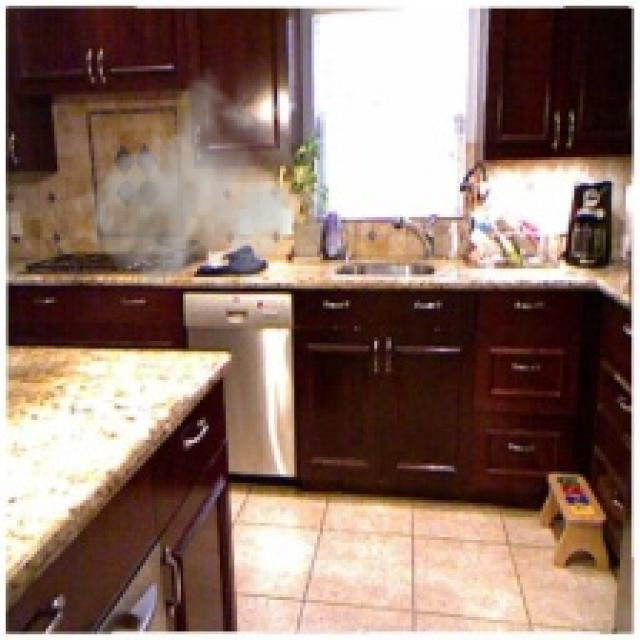smoke: (69, 63, 308, 306)
